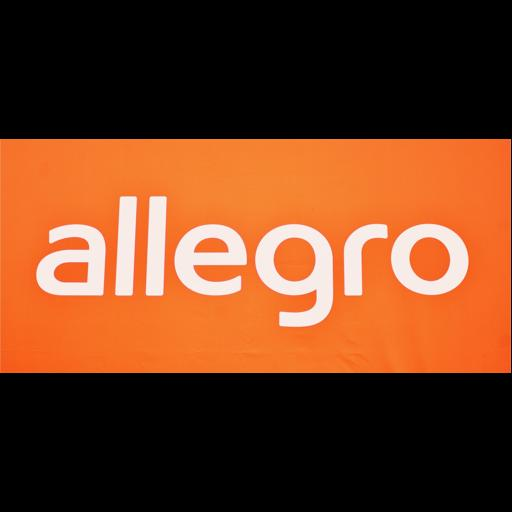Allegro: (0, 139, 511, 373)
